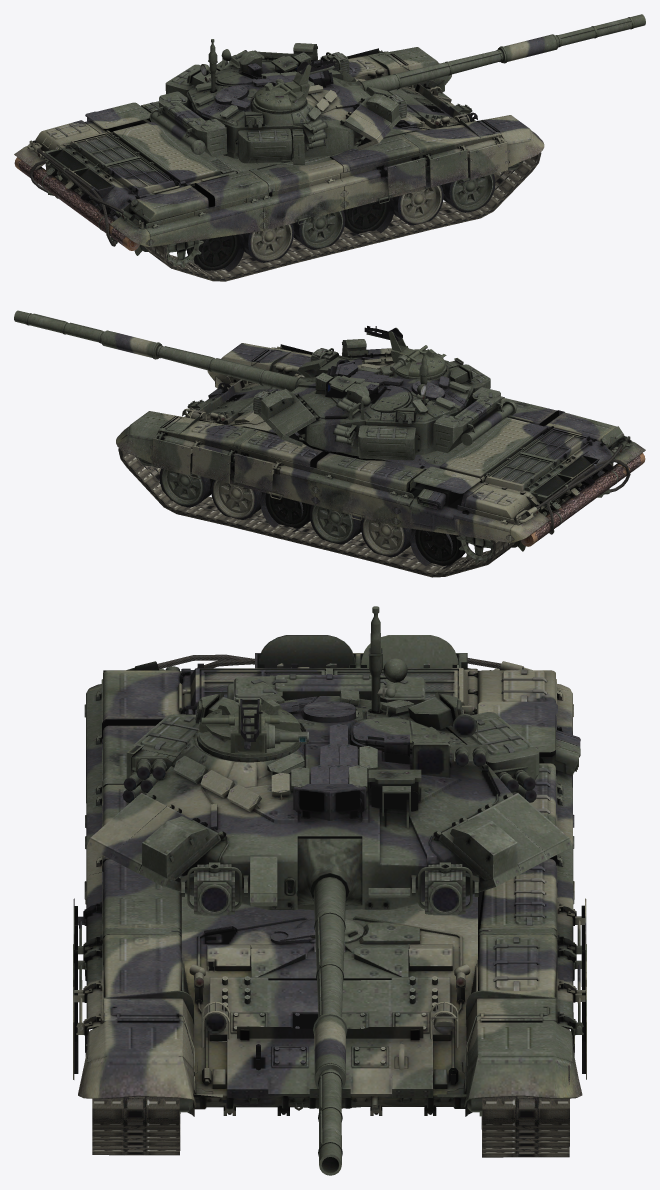
3 renders of one model, top to bottom at view 1: azimuth 30°, elevation 25°; view 2: azimuth 150°, elevation 25°; view 3: azimuth 270°, elevation 25°, orthographic. The views are drawn at different scales.
Parts seen in each view (by area): view 1: Object_4, Object_7, Object_5, Object_8, Object_3, Object_2, Object_6; view 2: Object_4, Object_7, Object_5, Object_8, Object_3, Object_2, Object_6; view 3: Object_4, Object_7, Object_8, Object_5, Object_6, Object_2, Object_3.
Boxes of the visible parts, <box> form: Object_4: <box>14,47,544,255</box>; Object_7: <box>149,39,406,165</box>; Object_5: <box>69,61,522,272</box>; Object_8: <box>82,14,645,195</box>; Object_3: <box>14,57,449,267</box>; Object_2: <box>45,137,541,281</box>; Object_6: <box>57,90,507,179</box>; Object_4: <box>116,343,645,551</box>; Object_7: <box>253,348,516,460</box>; Object_5: <box>137,327,591,569</box>; Object_8: <box>14,310,588,483</box>; Object_3: <box>225,353,645,563</box>; Object_2: <box>118,433,613,577</box>; Object_6: <box>234,344,562,491</box>; Object_4: <box>74,653,585,1116</box>; Object_7: <box>122,606,539,915</box>; Object_8: <box>73,635,586,1175</box>; Object_5: <box>112,663,467,1097</box>; Object_6: <box>73,635,586,1116</box>; Object_2: <box>92,1028,569,1157</box>; Object_3: <box>87,838,572,1028</box>.
Size of the model in its own units: 192 by 56.35 by 74.38.
2 materials, 2 textured.
